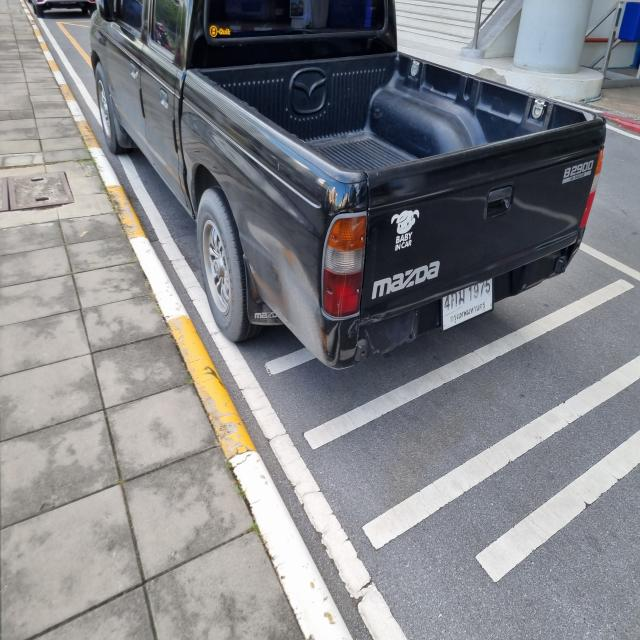license_plate: (438, 268, 496, 335)
